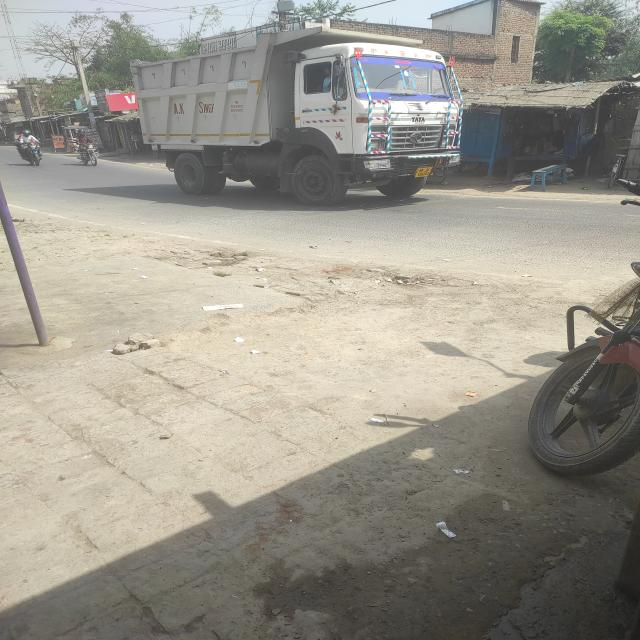Truck: (124, 12, 480, 206)
